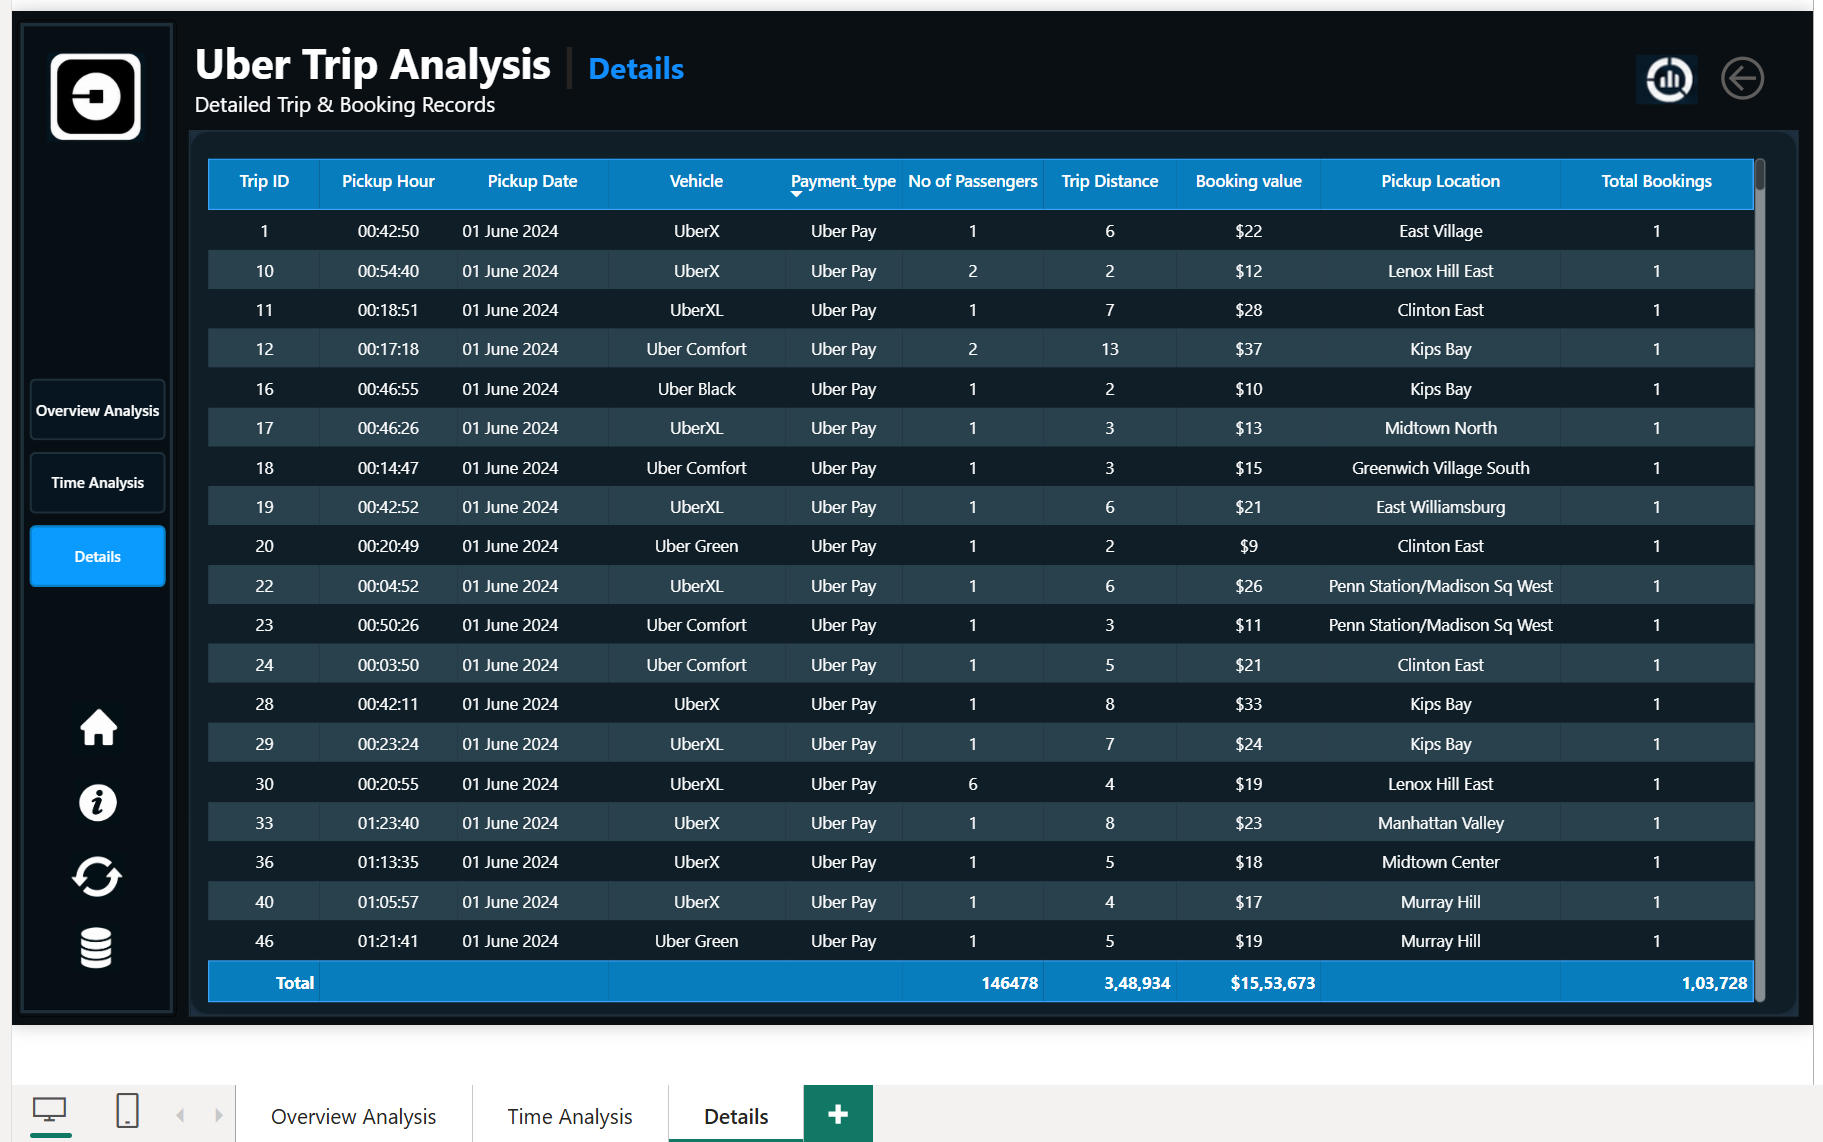

The dashboard page shown, as its layout file describes it:
{"tool":"powerbi","page":{"name":"Details","canvas":[1600,900],"ordinal":2},"visuals":[{"type":"shape","box":[157,105.7,1430.3,786.7],"z":0},{"type":"shape","box":[5,8.3,141.7,885],"z":1000},{"type":"textbox","box":[157,15.5,685.6,90.2],"z":2000},{"type":"tableEx","fields":{"Values":["Trip Details.Trip ID","Trip Details.Pickup Hour (HH MM SS)","Trip Details.Pickup Date","Trip Details.Vehicle","Trip Details.Payment_type","Sum(Trip Details.passenger_count)","Trip Details.Total Trip Distance Measure","Trip Details.Total Booking value","Location Table.Location","Trip Details.Total Bookings"]},"box":[167.9,125.9,1394.6,758.7],"z":3000},{"type":"actionButton","box":[1512.7,34.2,49.8,51.3],"z":4000},{"type":"image","box":[1443.3,33.3,55,56.7],"z":5000},{"type":"pageNavigator","box":[15,326.7,121.7,185],"z":6001},{"type":"image","box":[31.7,28.3,86.7,96.7],"z":6002},{"type":"image","box":[38.3,613.3,75,47.4],"z":6003},{"type":"image","box":[39.4,745.5,72.9,43.1],"z":6004},{"type":"image","box":[38.3,680.9,75,41.7],"z":6005},{"type":"image","box":[39.4,810.2,72.9,43.1],"z":6006}]}

Visuals, with their boxes on the page's 1600x900 design canvas (x1, y1, x2, y2). These are canvas units, not pixel positions in the 1823x1142 screenshot, which may show the page scaled, cropped or inside an application window:
shape: 157,106,1587,892
shape: 5,8,147,893
textbox: 157,16,843,106
tableEx - Trip Details.Trip ID x Trip Details.Pickup Hour (HH MM SS): 168,126,1562,885
actionButton: 1513,34,1562,86
image: 1443,33,1498,90
pageNavigator: 15,327,137,512
image: 32,28,118,125
image: 38,613,113,661
image: 39,746,112,789
image: 38,681,113,723
image: 39,810,112,853
